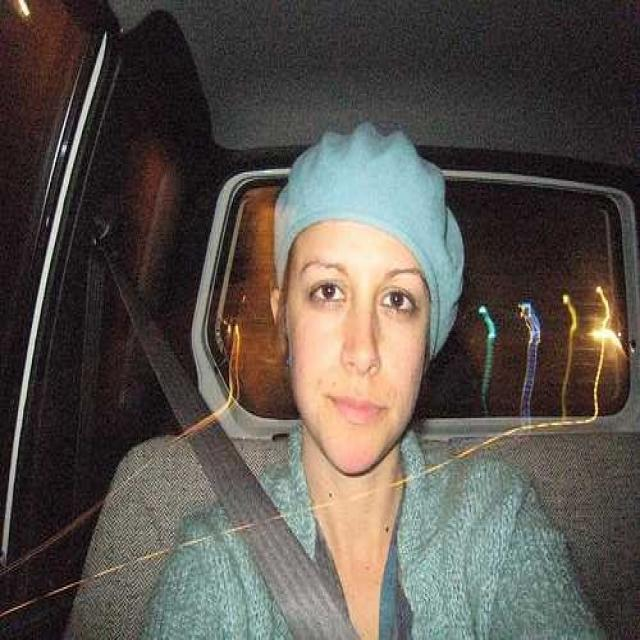seatbelt: (74, 207, 290, 587)
